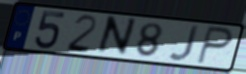2: (65, 13, 99, 54)
5: (32, 8, 68, 50)
8: (134, 22, 166, 58)
J: (167, 24, 201, 63)
N: (94, 14, 140, 57)
P: (194, 24, 235, 67)
